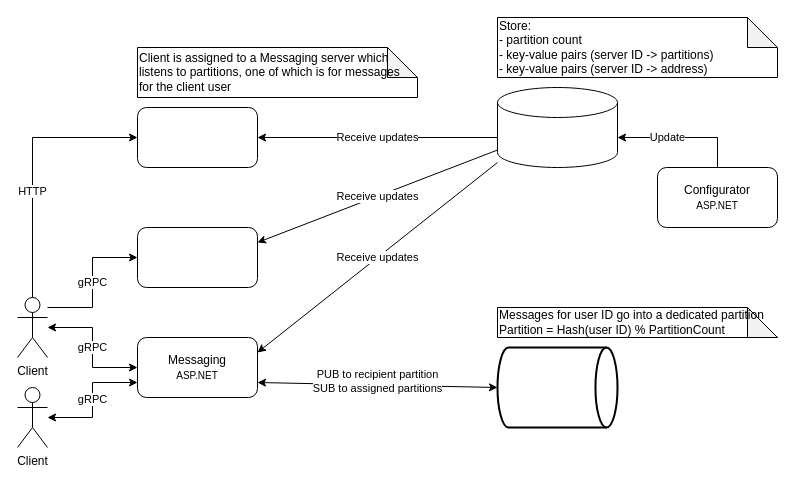
Some shapes in this 795 by 486 pixel diagram are drawn without their labels. Here are the shapes that lost their labels. From the top down, the centre of each, then its label:
At pixel 197 137: "Connect ASP.NET".
At pixel 557 127: "Configuration Redis cluster".
At pixel 197 257: "History ASP.NET".
At pixel 557 387: "PUB/SUB Kafka cluster".
